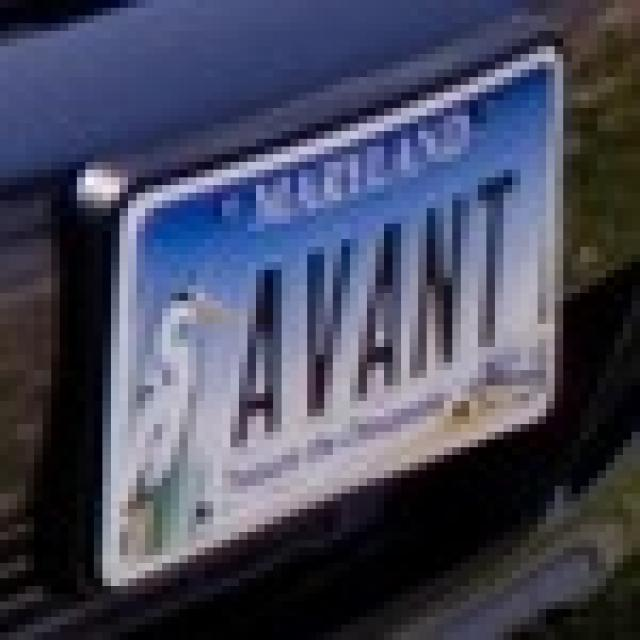LicensePlate: (37, 17, 605, 613)
